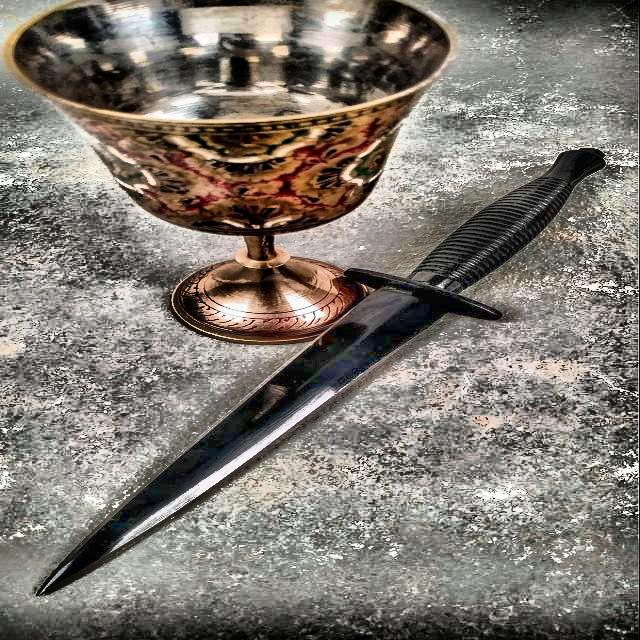knife: (31, 140, 624, 602)
